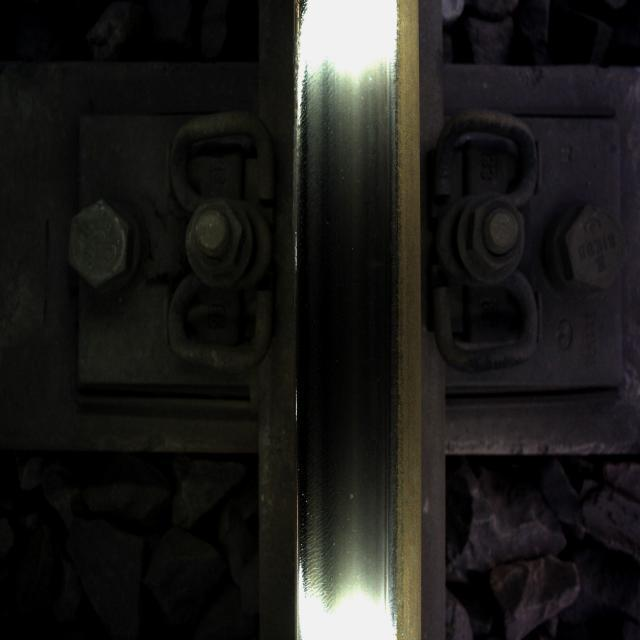break: (300, 59, 396, 572)
